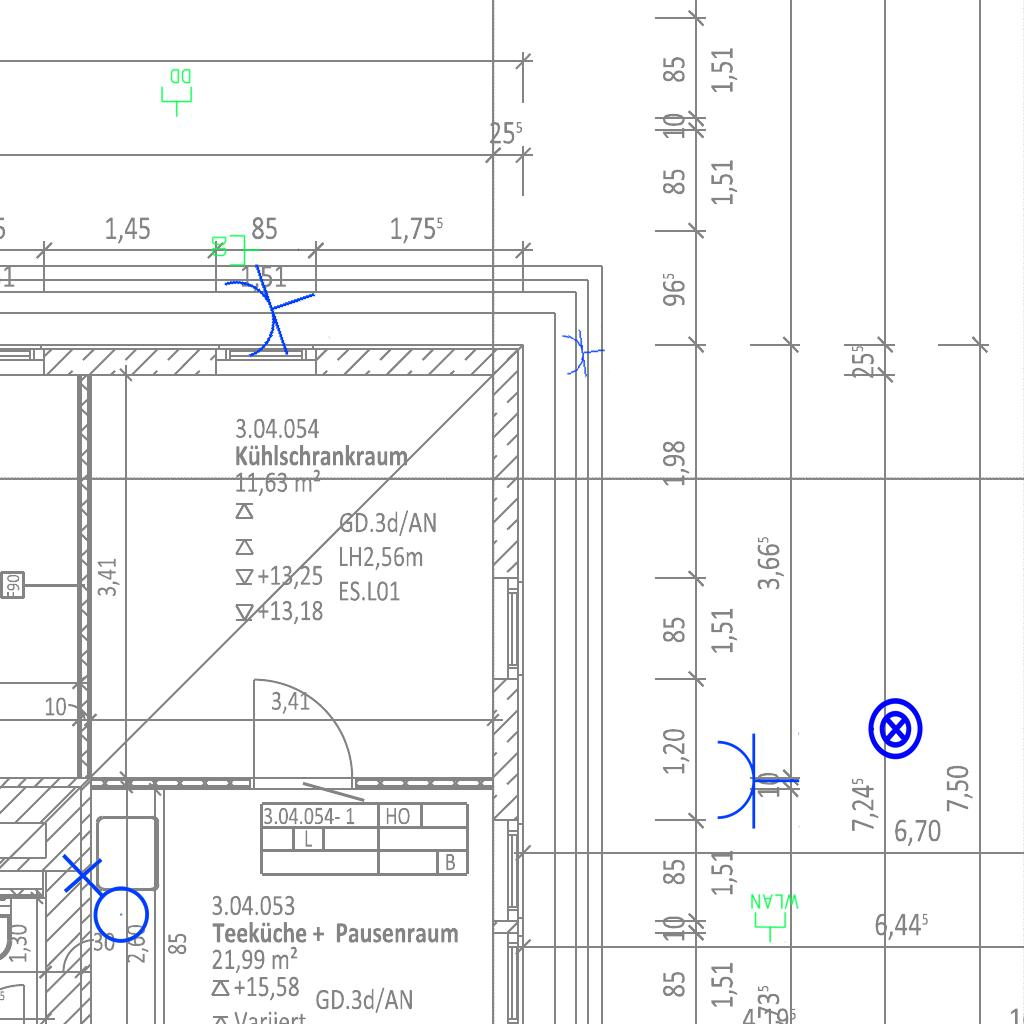Datenanschluss_zweifach: (160, 67, 194, 118), (210, 233, 261, 267)
Elektroanschluss_allgemein_230V_Geraeteanschlussdose_230V: (57, 853, 151, 952)
Schukosteckdose_einfach: (216, 246, 332, 369), (713, 730, 800, 830), (559, 324, 609, 381)
Taster_beleuchtet: (863, 696, 929, 762)
WLAN: (749, 892, 801, 944)
